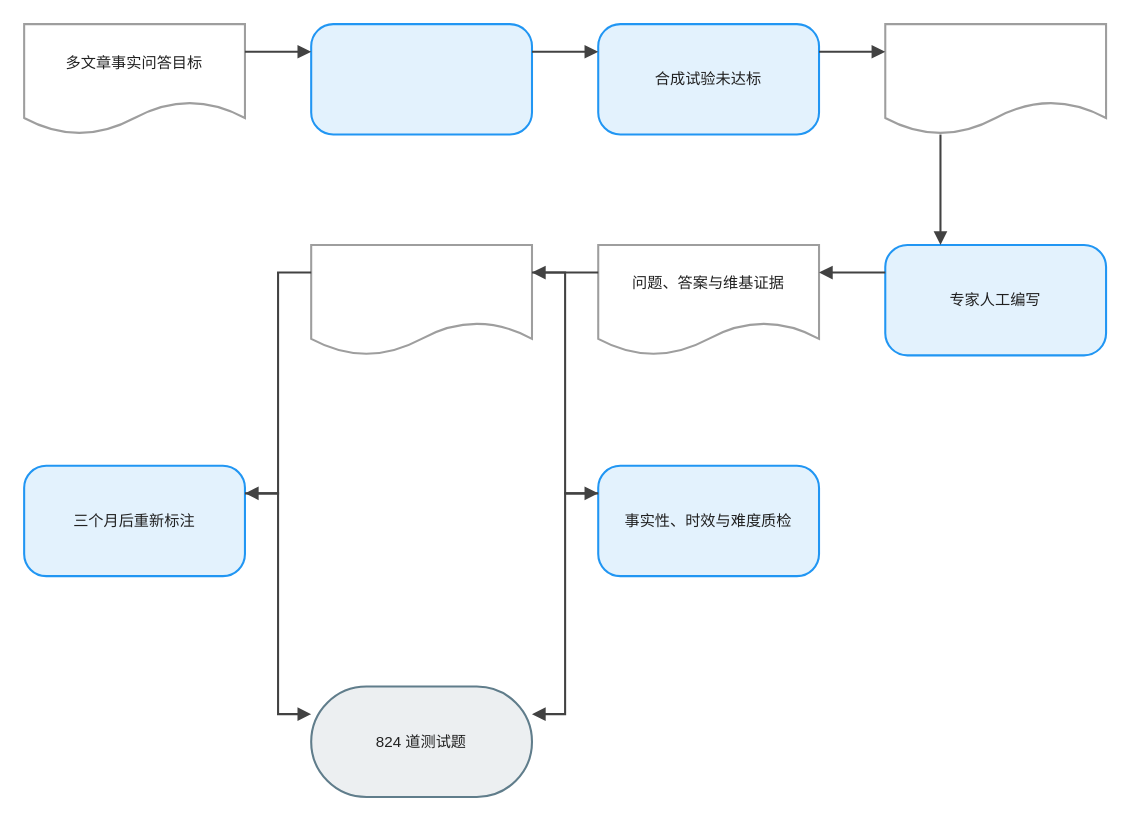
The diagram is 1132 pixels wide and 822 high, and some of its shapes have lost their labels. The centre of each missing label's shape, as x and y in pixels:
"Gemini 合成试验" goes at pixel 421 78.
"五类推理多标签" goes at pixel 421 299.
"仅保留核心任务说明" goes at pixel 995 78.
